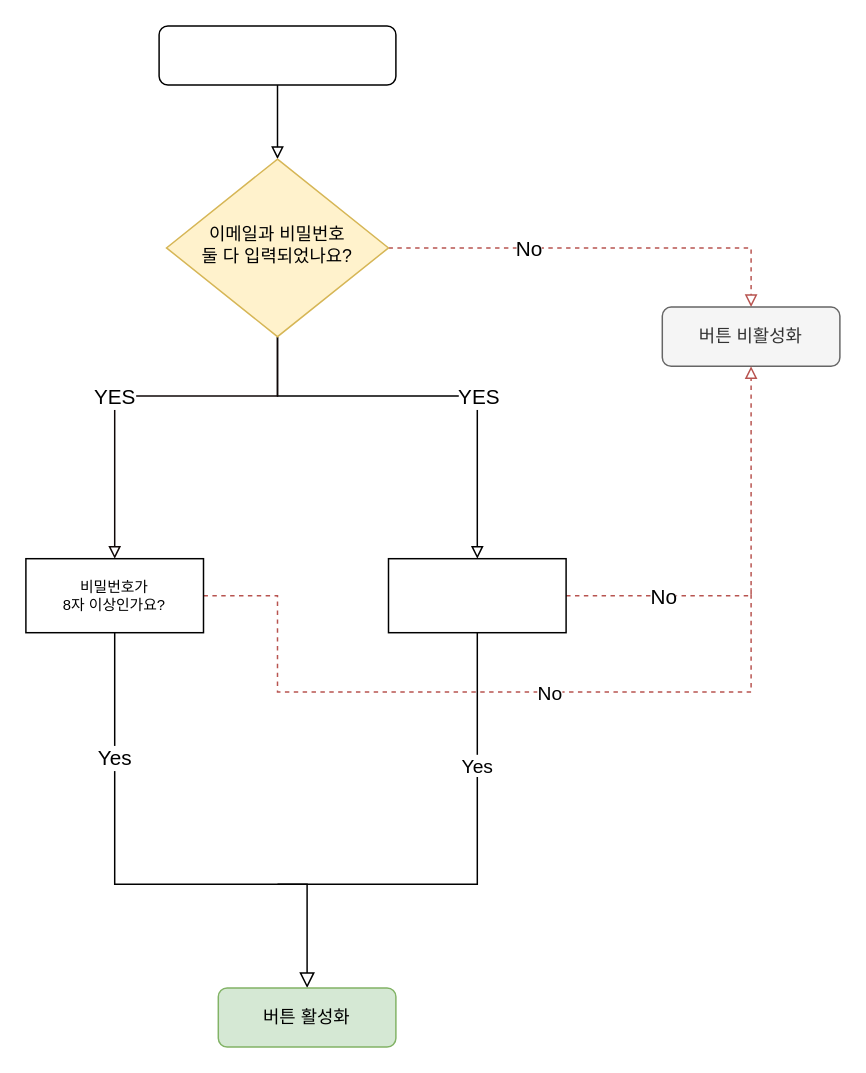
This 866x1073 diagram has some shape labels left out. Each missing label, with the centre of its shape:
"이메일 입력에 '@'가 포함되어있나요?" belongs at point (476, 595).
"입력창 비어있음" belongs at point (277, 54).
